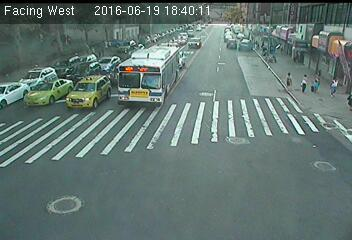neg: (55, 121, 77, 151), (60, 48, 82, 77), (154, 120, 175, 147), (228, 31, 248, 56), (217, 77, 236, 103), (188, 36, 207, 60), (51, 83, 70, 107), (243, 189, 261, 214), (112, 90, 130, 114), (186, 142, 204, 166), (226, 132, 243, 154), (15, 135, 32, 157), (183, 186, 200, 208), (80, 154, 96, 176), (112, 181, 127, 202), (66, 187, 81, 208), (127, 29, 142, 50), (143, 59, 158, 79), (274, 108, 287, 127), (310, 154, 323, 172)
pos: (327, 73, 345, 97), (297, 71, 314, 93), (282, 71, 297, 90), (311, 77, 322, 91)
